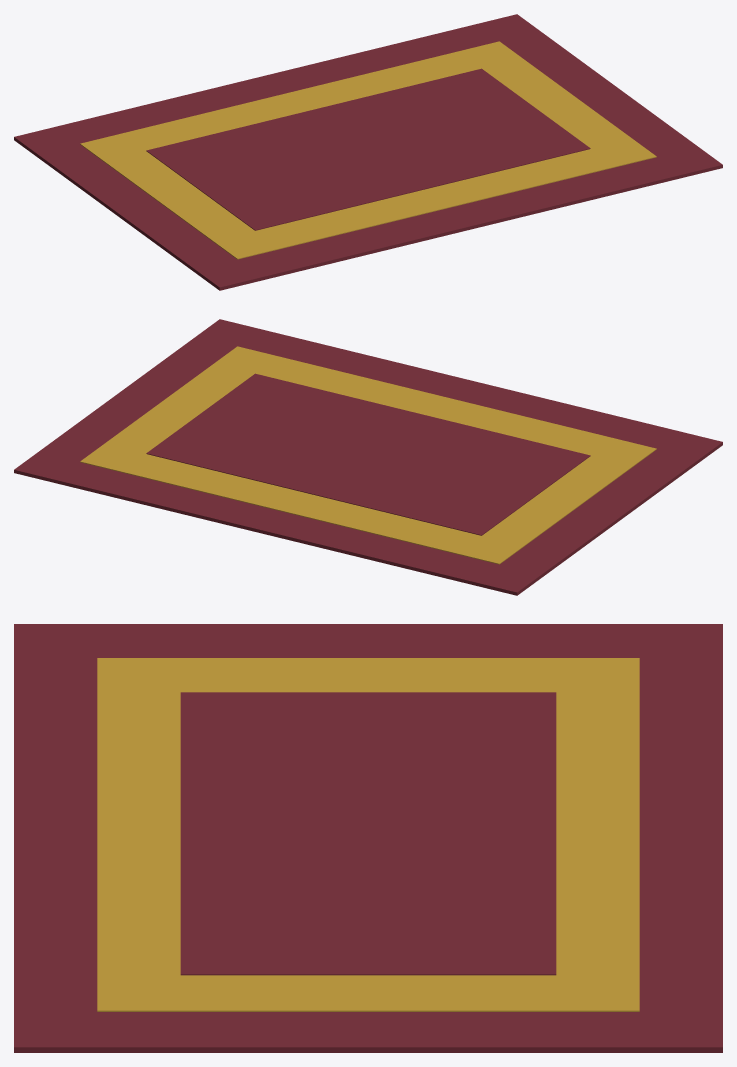
The model's file is rug.glb.
The picture shows the model from 3 angles, top to bottom: view 1: azimuth 30°, elevation 25°; view 2: azimuth 150°, elevation 25°; view 3: azimuth 270°, elevation 25°; orthographic projection. The views are drawn at different scales.
Parts seen in each view (by area): view 1: rug-7a2e3a, rug-c9a13b; view 2: rug-7a2e3a, rug-c9a13b; view 3: rug-7a2e3a, rug-c9a13b.
Boxes of the visible parts, x1,y1,x2,y2 form: rug-7a2e3a: (14, 14, 722, 290); rug-c9a13b: (80, 41, 656, 259); rug-7a2e3a: (14, 319, 722, 595); rug-c9a13b: (80, 346, 656, 564); rug-7a2e3a: (14, 624, 722, 1052); rug-c9a13b: (97, 658, 639, 1011).
Bounding box in the file's own units: 2.4 × 0.0215 × 1.7.
